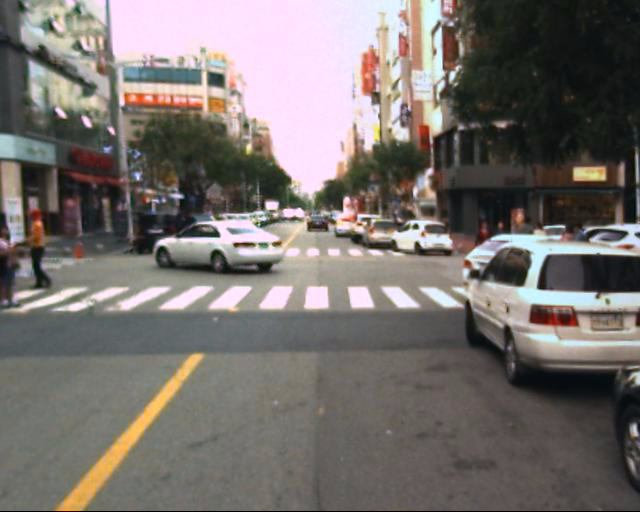person: (17, 202, 70, 293), (0, 207, 45, 306), (560, 217, 586, 274), (177, 207, 199, 261)
